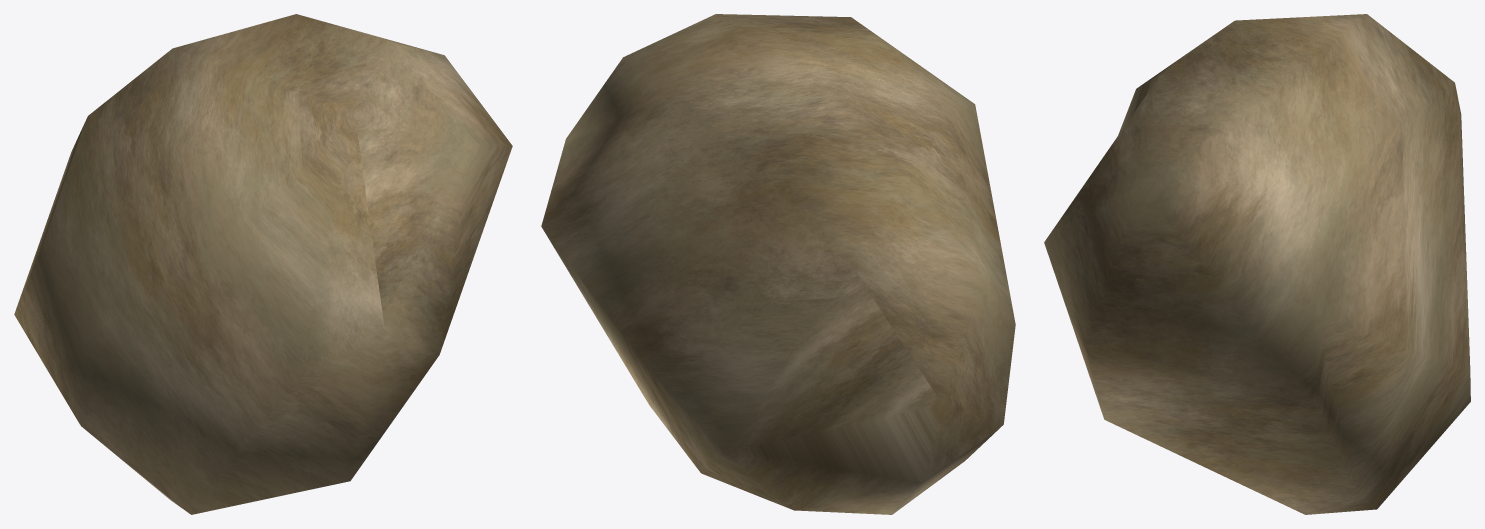
File: rock 2.fbx
The picture shows the model from 3 angles, left to right: view 1: azimuth 30°, elevation 25°; view 2: azimuth 150°, elevation 25°; view 3: azimuth 270°, elevation 25°; orthographic projection. The views are drawn at different scales.
Visible parts, largest first — view 1: pPlatonic6; view 2: pPlatonic6; view 3: pPlatonic6.
Boxes of the visible parts, x1,y1,x2,y2 form: pPlatonic6: (14,14,512,514); pPlatonic6: (541,14,1015,514); pPlatonic6: (1044,14,1470,514).
Bounding box in the file's own units: 2.03 × 2.02 × 1.64.
1 material, 1 textured.
